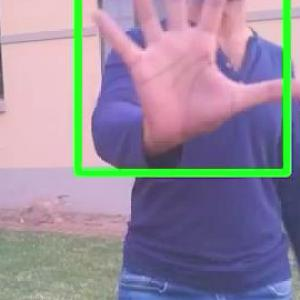follow_hand: (84, 0, 299, 158)
